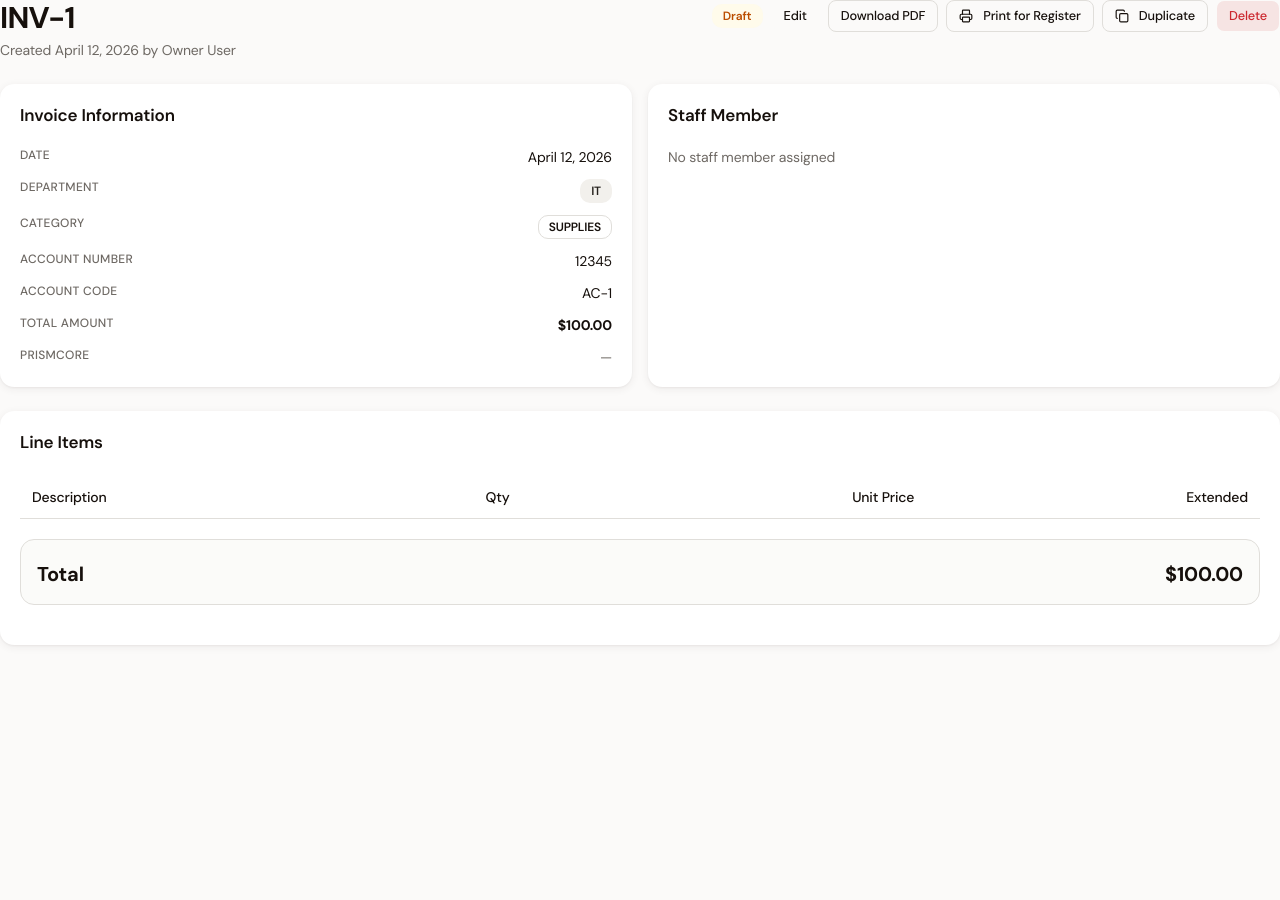
Test: InvoiceDetailView › uses the confirmation dialog for draft invoice deletes instead of window.confirm
Step 1. Click the button "Delete" → click(1248, 16), box x1=1216 y1=0 x2=1279 y2=32
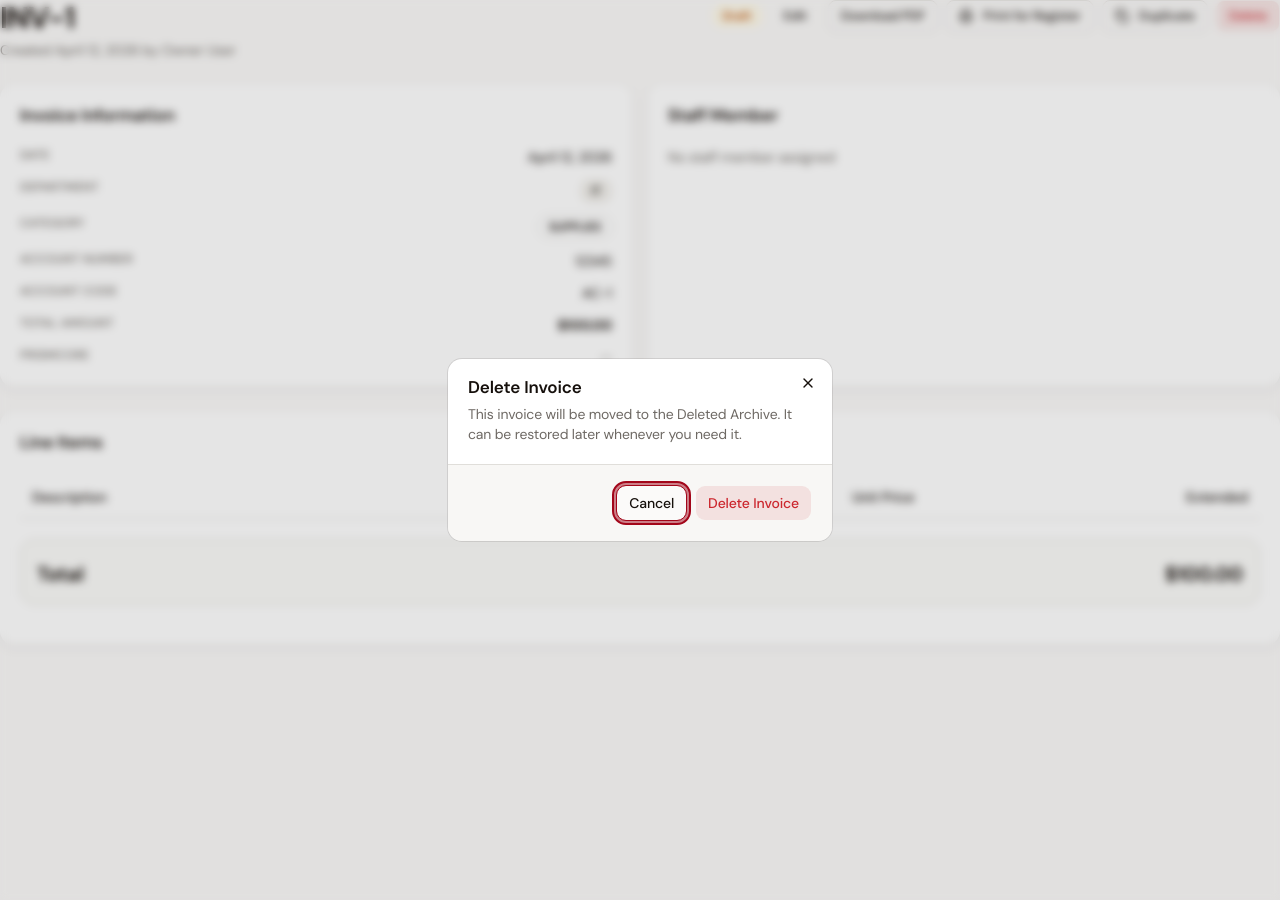
Expected: the dialog "Delete Invoice" is shown, x1=448 y1=359 x2=832 y2=541
Expected: the text "moved to the Deleted Archive" is shown, x1=468 y1=405 x2=792 y2=443
